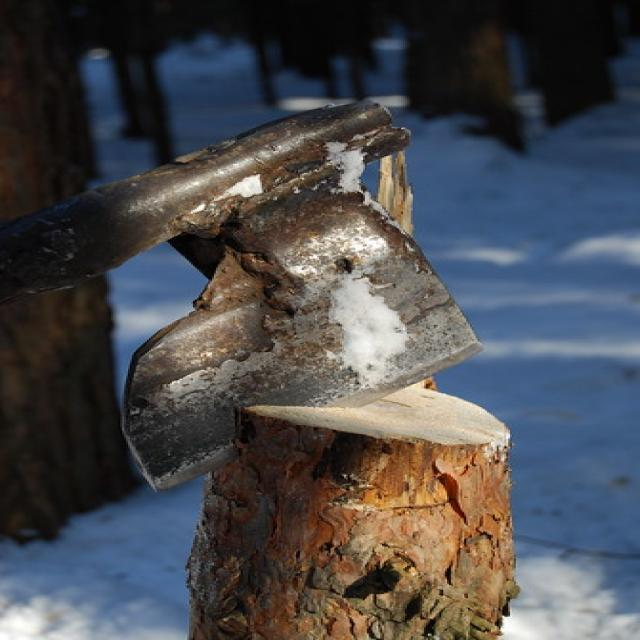Axe: (0, 102, 480, 489)
